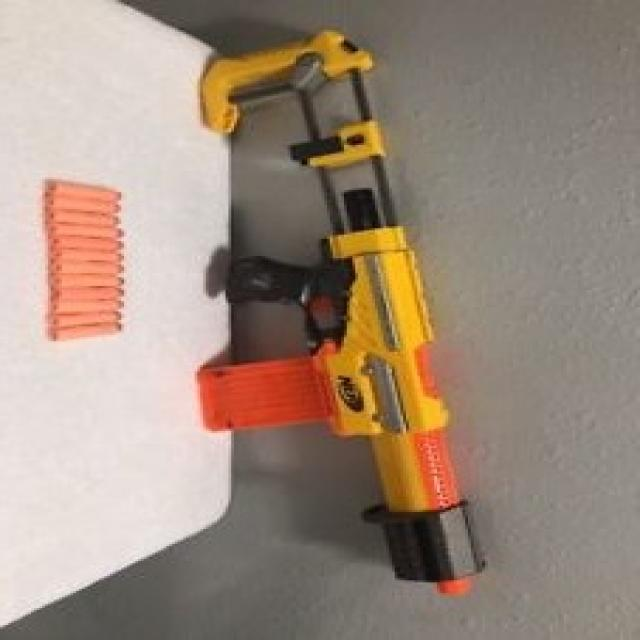Nerf gun: (190, 25, 498, 602)
